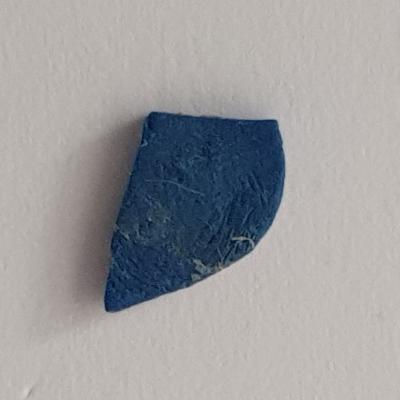plastic: (70, 92, 322, 332)
